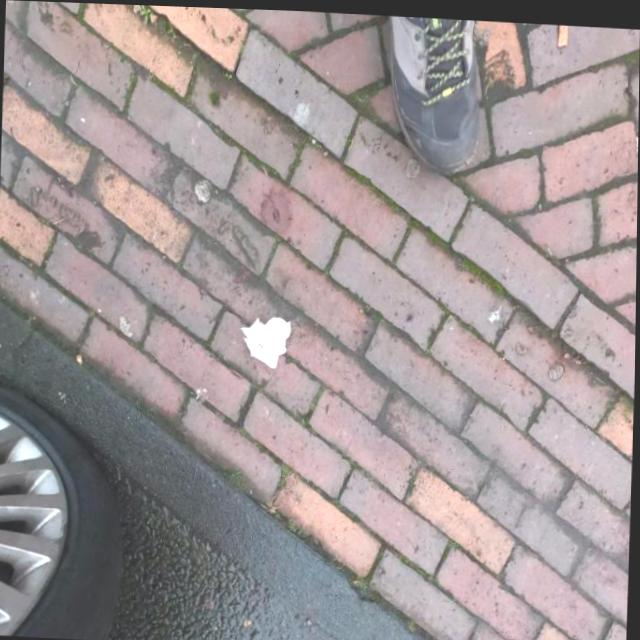Paper: (238, 312, 294, 369)
